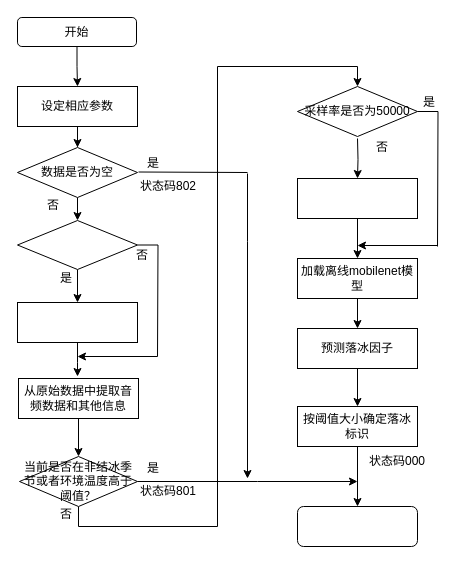
Some shapes in this 463 by 564 pixel diagram are drawn without their labels. The box of each missing label's shape, as (x1, y1, x2, y2) in pixels:
按50000重采样: (296, 178, 418, 218)
按id给数据去重: (16, 302, 138, 342)
数据长度是否超过60？: (16, 220, 138, 270)
结束: (296, 506, 418, 546)
